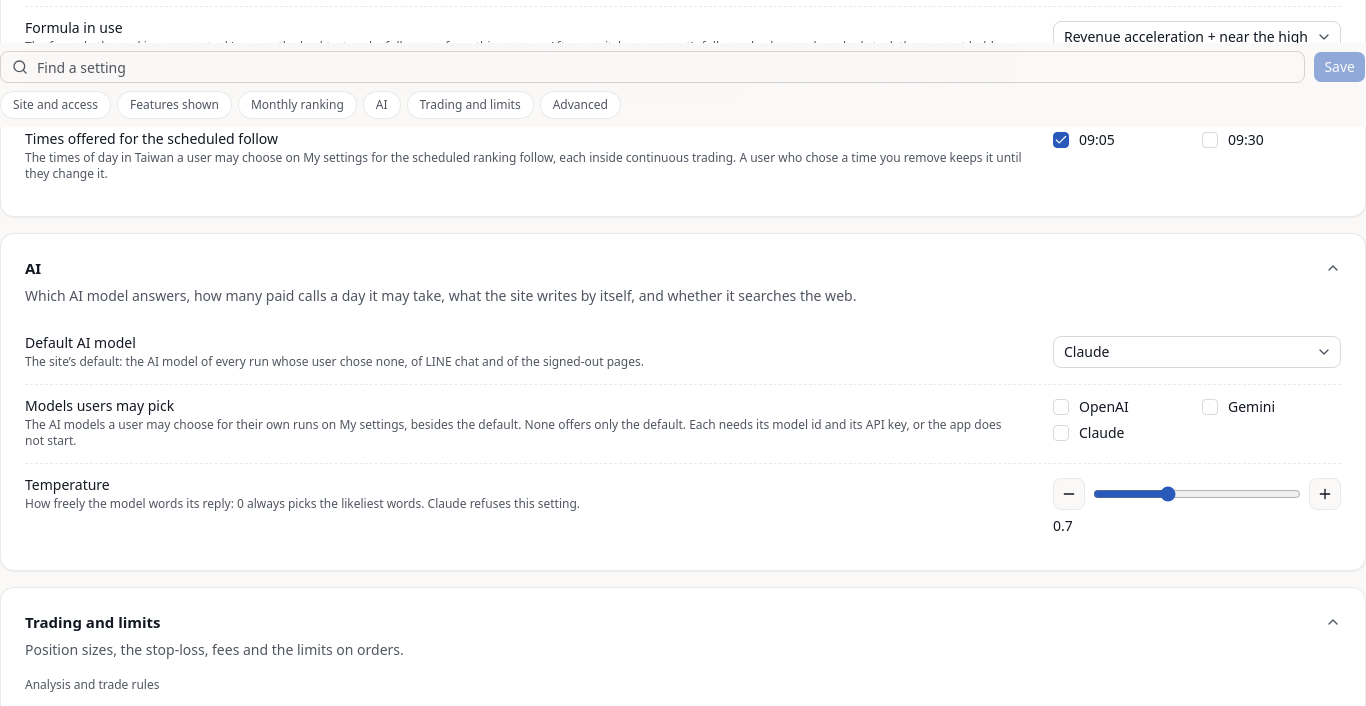
Test: the settings page › shows each problem of a refused save at its setting, in the reader’s words, until that setting changes
(page scrolled)
Click the checkbox named "OpenAI" next to "OpenAI" at [1061, 407], box [1053,399,1069,415]
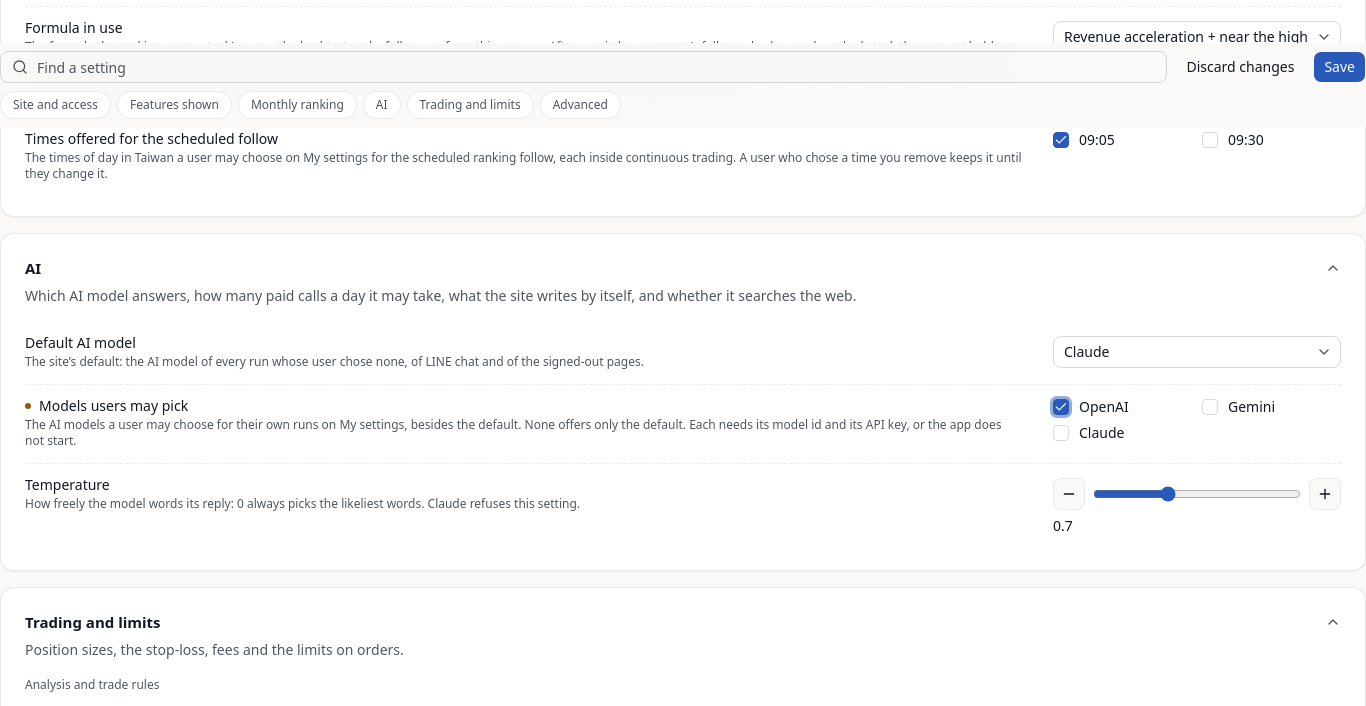
Click the button "Save" at [1340, 67], box [1313,51,1365,83]
(page scrolled)
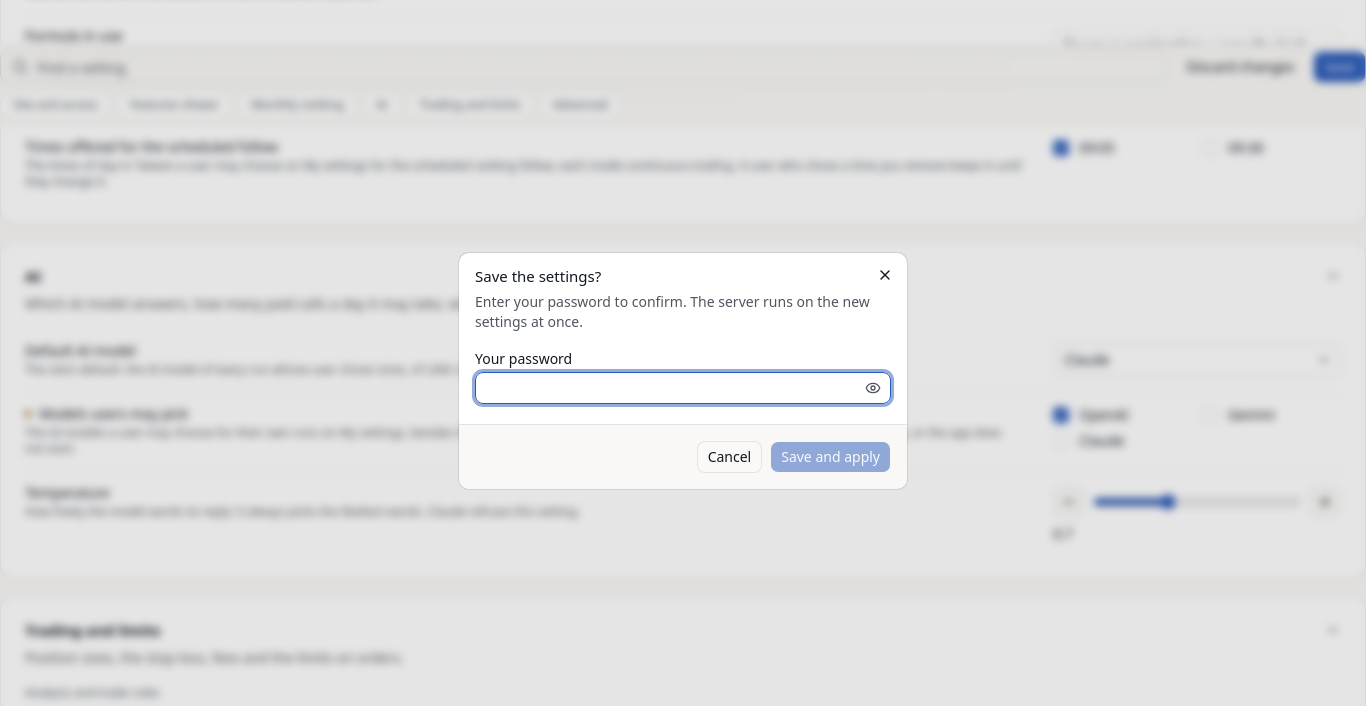
Type "correct horse battery" into the password field labelled "Your password" at [683, 388], box [475,372,891,404]
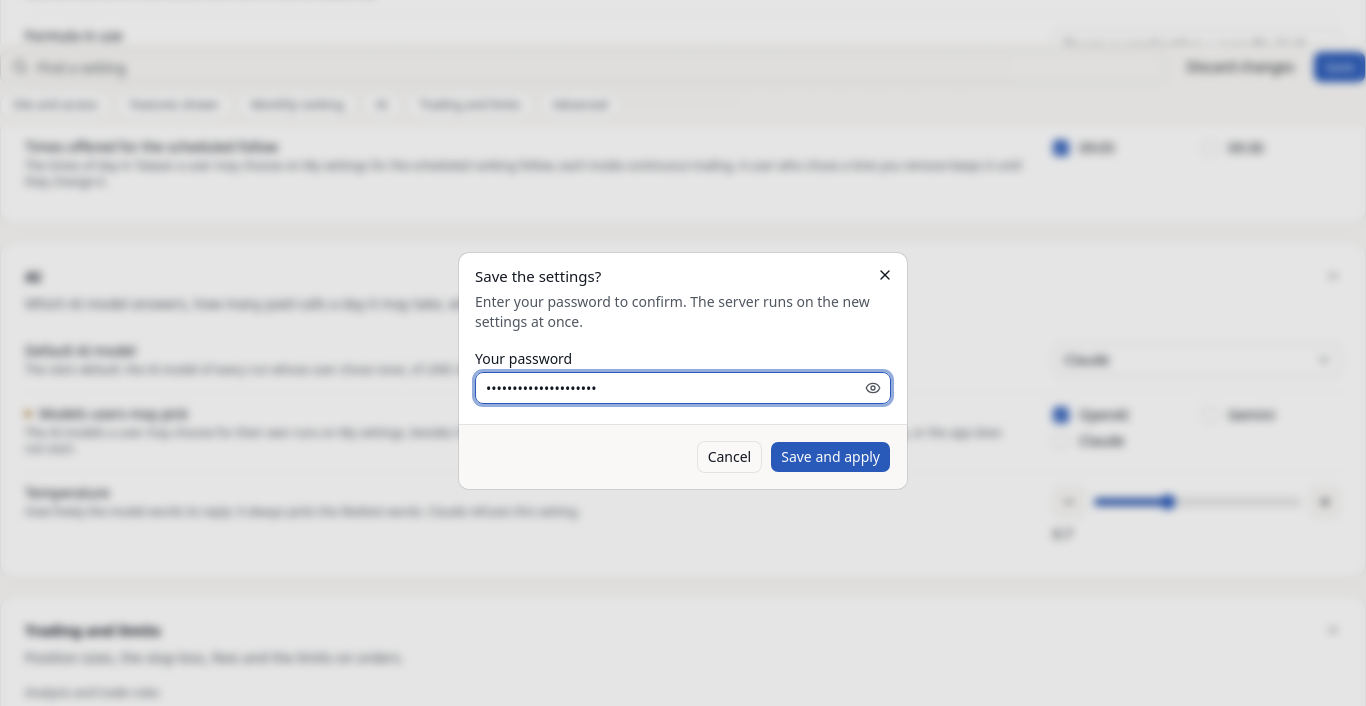
Click the button "Save and apply" at [831, 457], box [770,441,891,473]
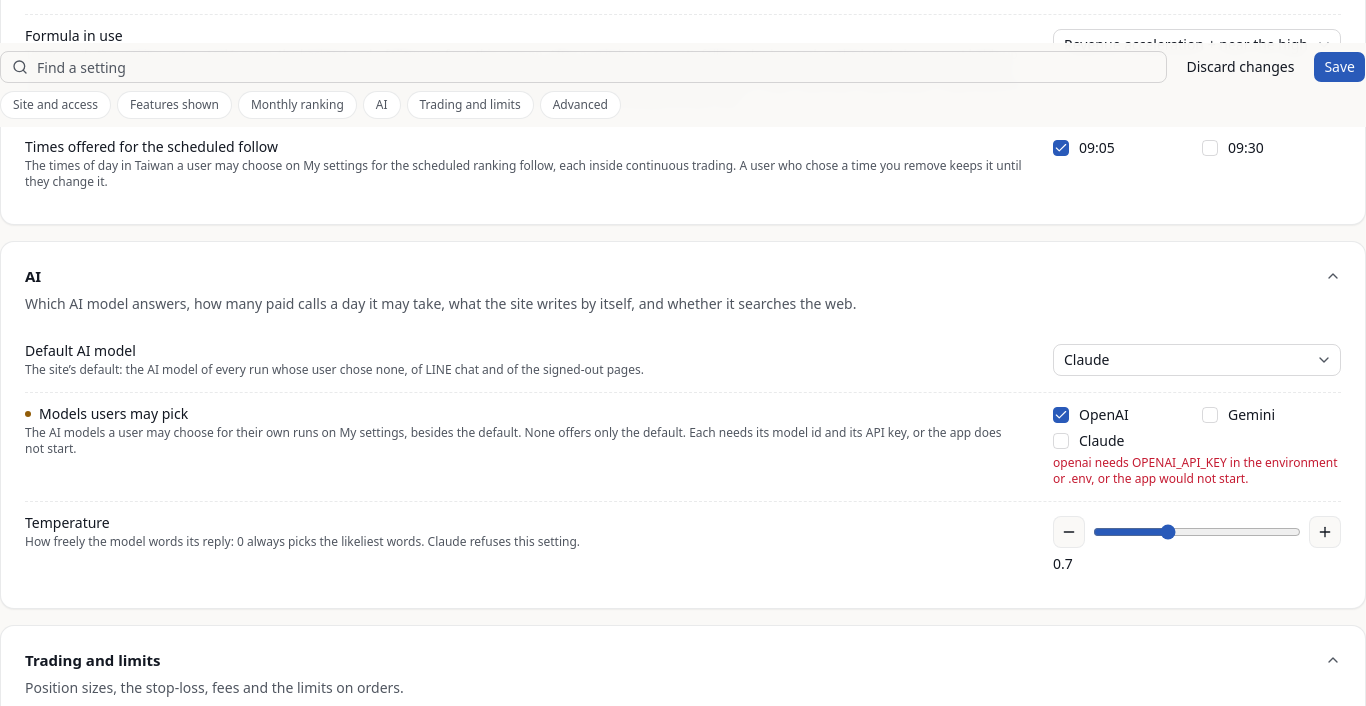
Now the list item "openai needs OPENAI_API_KEY in the environment or .env, or the app would not start." is shown, box [1053,454,1338,487]
Now the dialog is gone
Click the 3rd checkbox named "OpenAI" at [1061, 415], box [1053,407,1069,423]
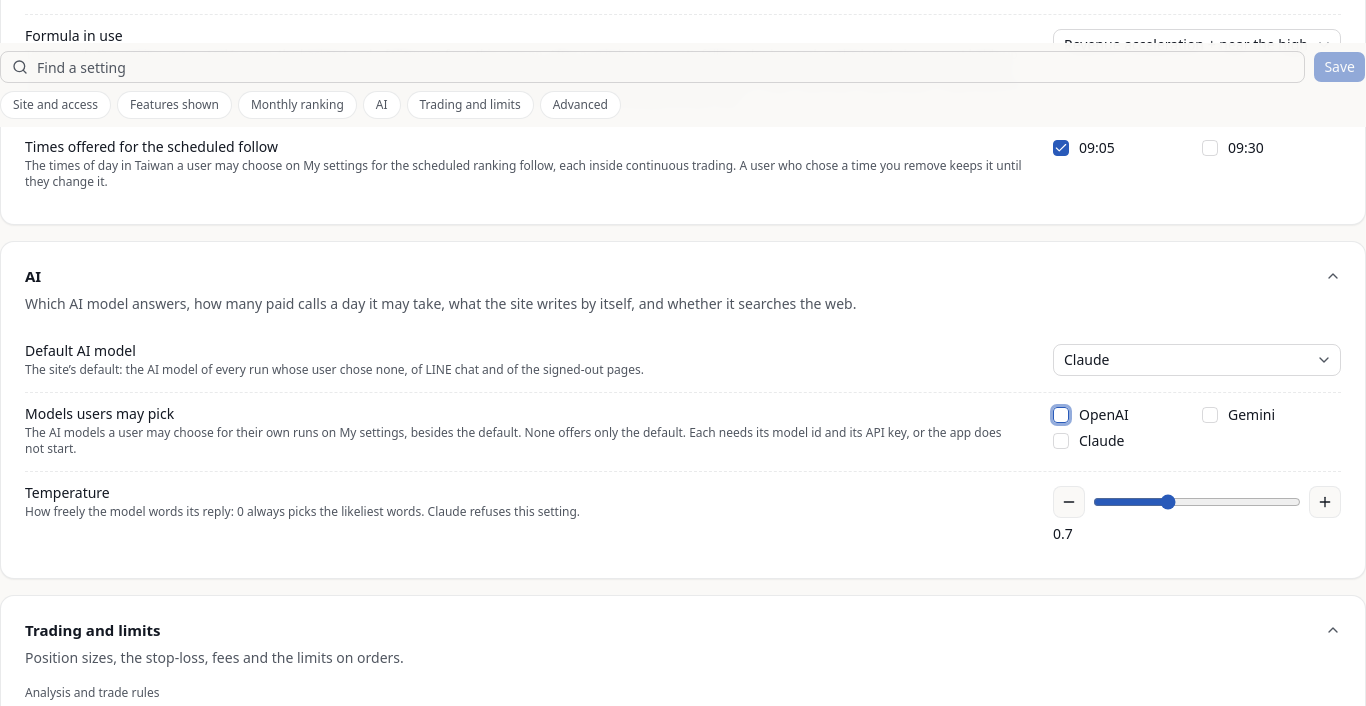
Now the list item "openai needs OPENAI_API_KEY in the environment or .env, or the app would not start." is gone
